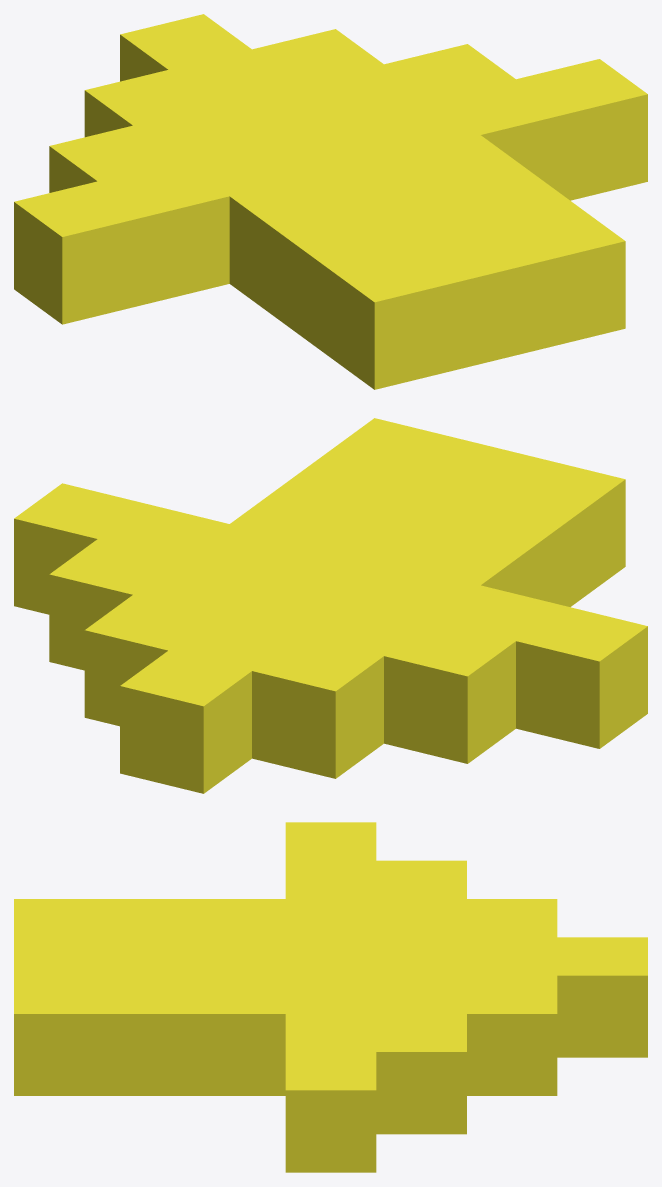
Rendered from arrow.glb.
3 renders of one model, top to bottom at view 1: azimuth 30°, elevation 25°; view 2: azimuth 150°, elevation 25°; view 3: azimuth 270°, elevation 25°, orthographic. The views are drawn at different scales.
Visible parts, largest first — view 1: Layer.1; view 2: Layer.1; view 3: Layer.1.
Part boxes in pixels (<box>): Layer.1: <box>14,14,647,389</box>; Layer.1: <box>14,418,647,793</box>; Layer.1: <box>14,822,647,1172</box>.
Bounding box in the file's own units: 7 × 1 × 7.
1 material, 1 textured.
